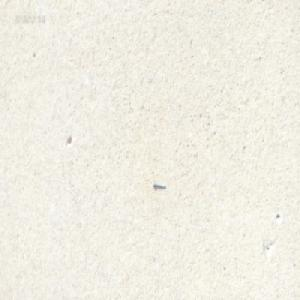Nail: (152, 179, 165, 188)
